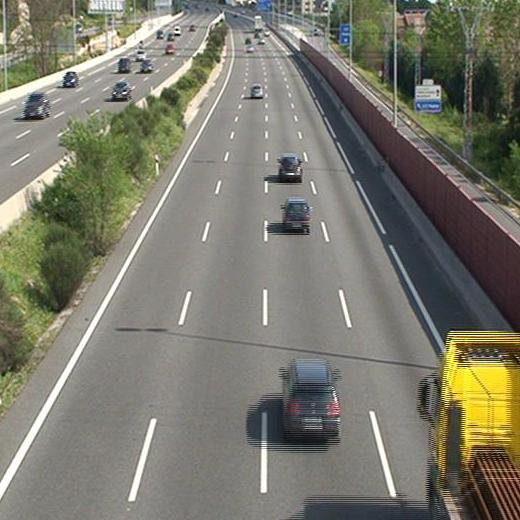car: (279, 358, 342, 437), (281, 199, 311, 232), (276, 155, 303, 179), (249, 82, 263, 98)
